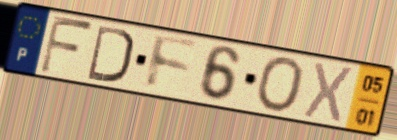6: (197, 43, 243, 105)
D: (85, 22, 136, 85)
F: (36, 13, 96, 77), (144, 32, 201, 93)
O: (253, 55, 306, 114)
X: (300, 60, 357, 127)
